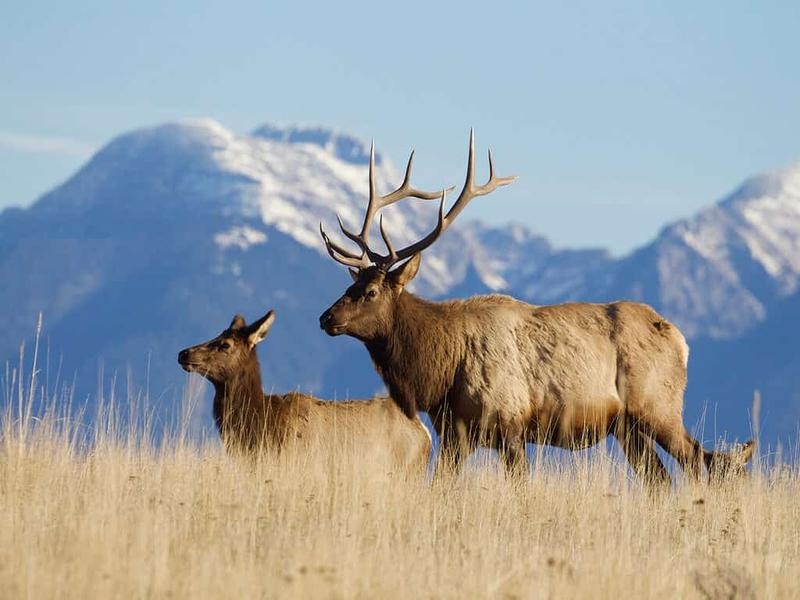elk: (318, 199, 709, 495), (183, 313, 434, 501)
